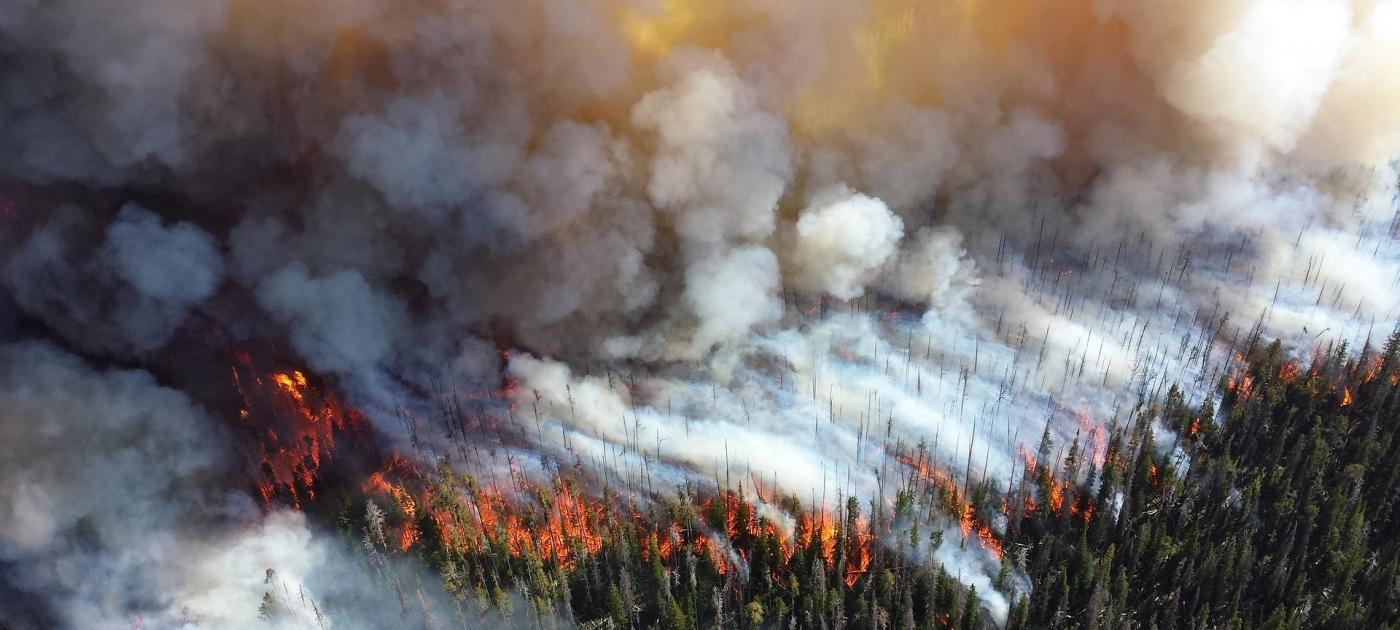fire: (147, 316, 626, 577), (637, 425, 1106, 576), (1196, 314, 1400, 438)
